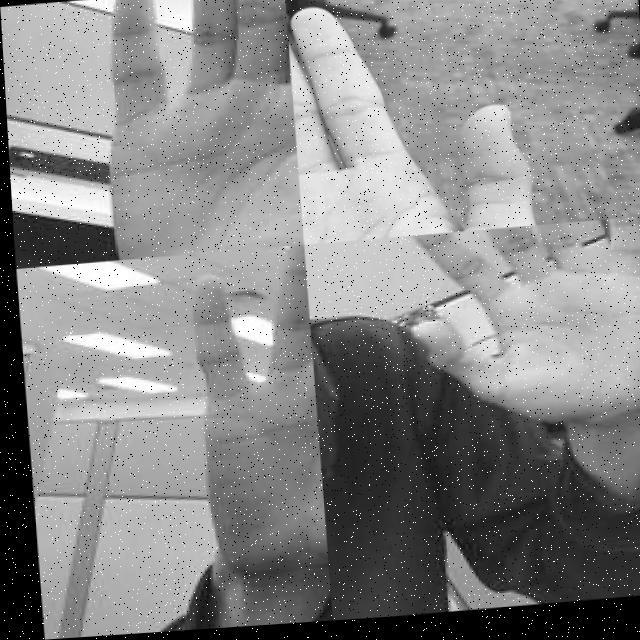no-gloves: (112, 247, 320, 583), (283, 0, 540, 248), (82, 0, 299, 262), (394, 222, 640, 449)
